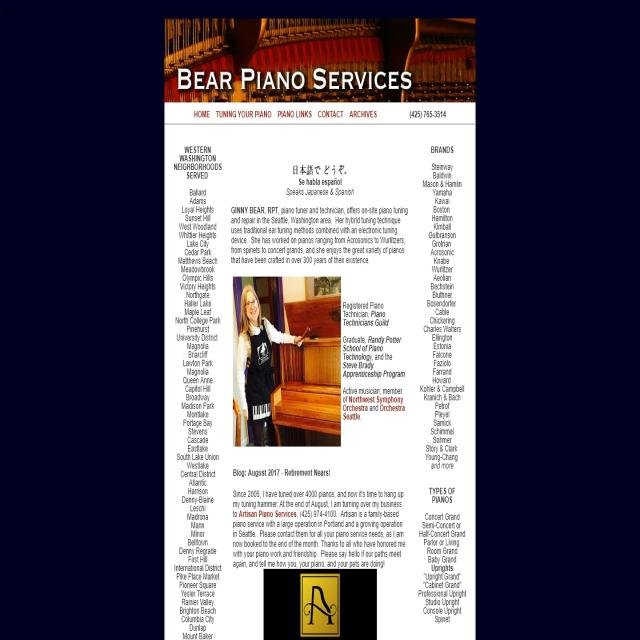button: (215, 106, 273, 124), (348, 105, 379, 126), (278, 105, 312, 124), (314, 104, 346, 124), (192, 102, 211, 124)
heading: (176, 61, 413, 92), (286, 160, 356, 198), (170, 141, 222, 184), (426, 479, 461, 507), (429, 140, 456, 160)
image: (164, 24, 476, 103), (234, 277, 340, 447), (264, 570, 376, 640)
text: (172, 187, 221, 640), (230, 465, 413, 569), (420, 162, 466, 471), (229, 205, 407, 266), (342, 293, 406, 433), (419, 508, 468, 635), (406, 105, 448, 122)
